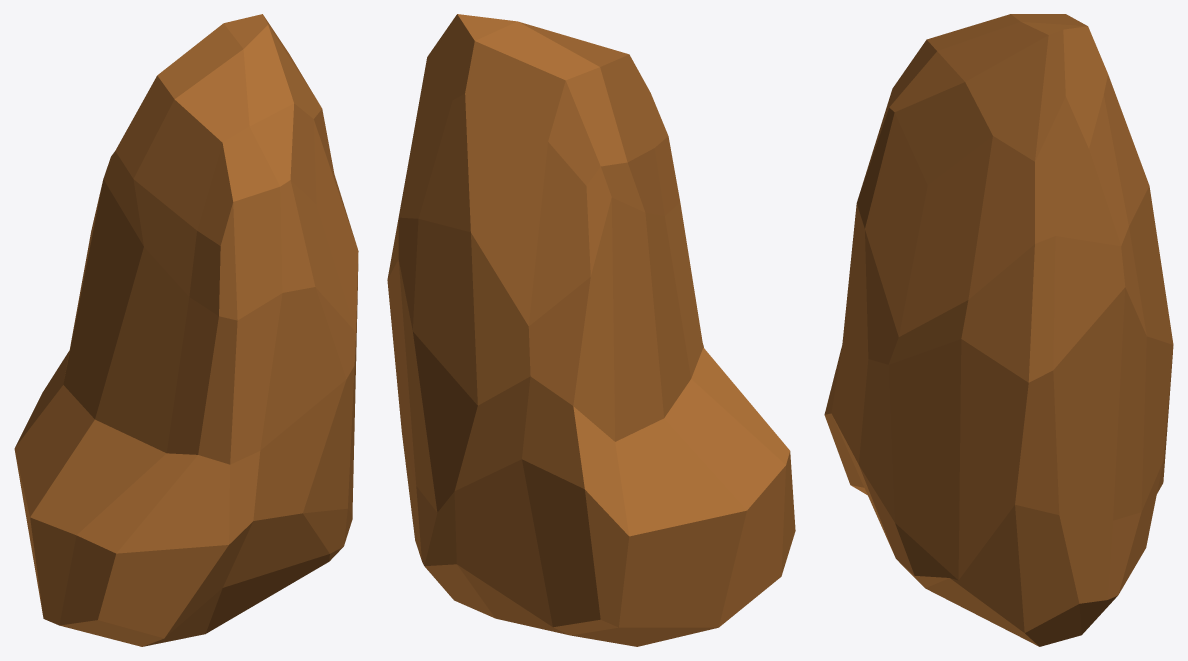
File: HardRock_37.fbx
3 renders of one model, left to right at view 1: azimuth 30°, elevation 25°; view 2: azimuth 150°, elevation 25°; view 3: azimuth 270°, elevation 25°, orthographic. The views are drawn at different scales.
Visible parts, largest first — view 1: HardRock_37; view 2: HardRock_37; view 3: HardRock_37.
Boxes of the visible parts, left/top/right/bottom form: HardRock_37: left=14, top=14, right=358, bottom=646; HardRock_37: left=387, top=14, right=795, bottom=646; HardRock_37: left=824, top=14, right=1173, bottom=646.
Size of the model in its own units: 62.51 by 100 by 51.67.
